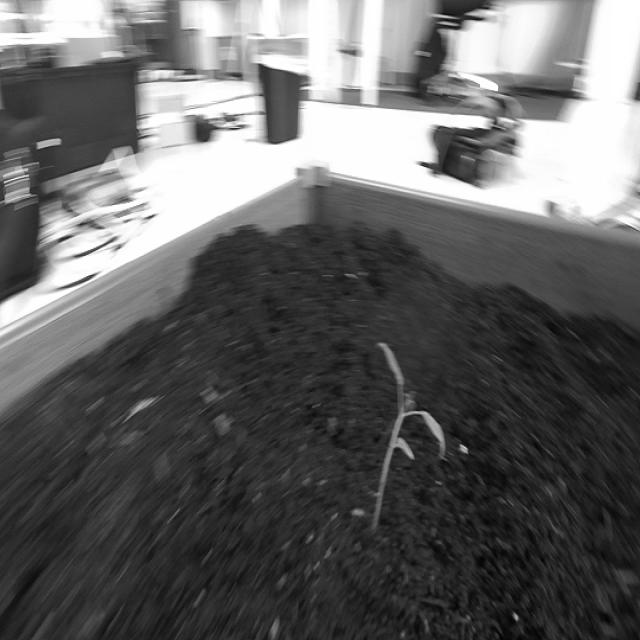Healthy: (359, 319, 456, 549)
